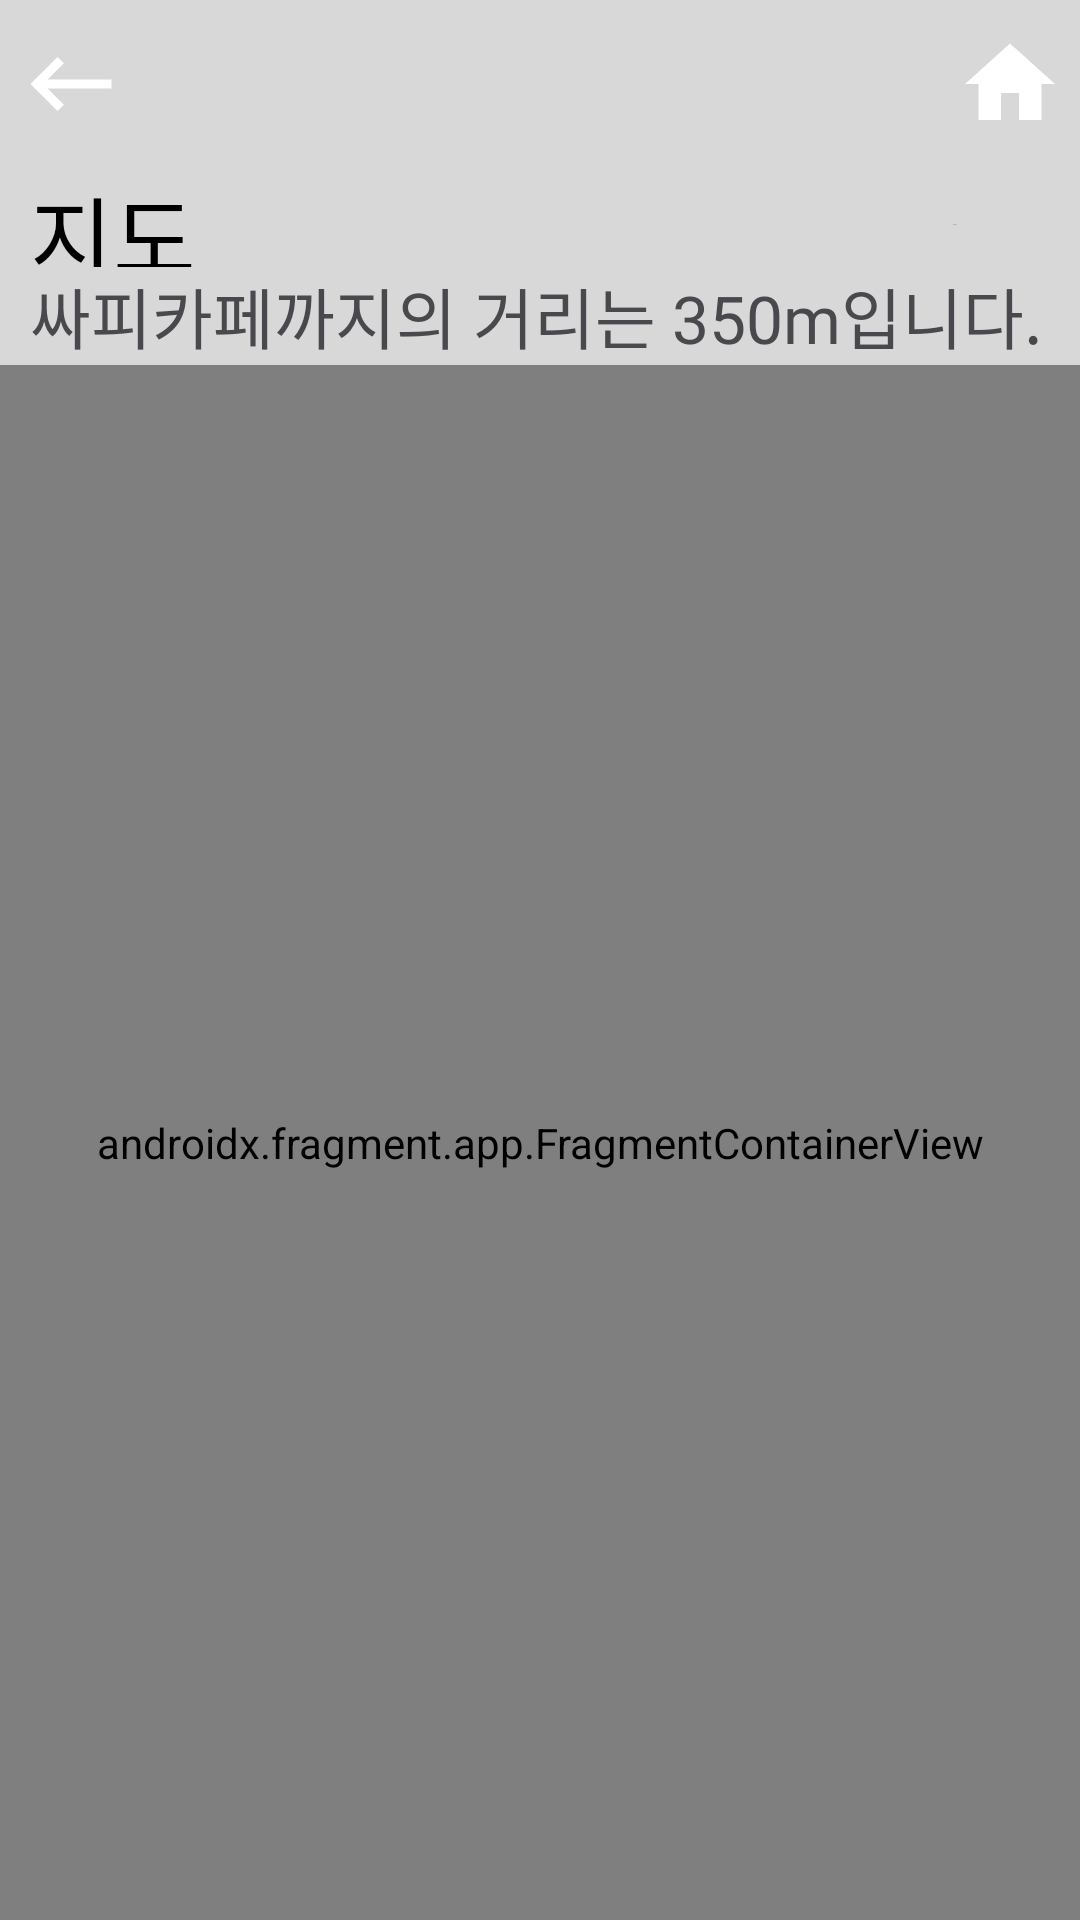

Point at icon controls on the screen. Image size 1080x1920, points as (x,y).
home: (1010,82)
